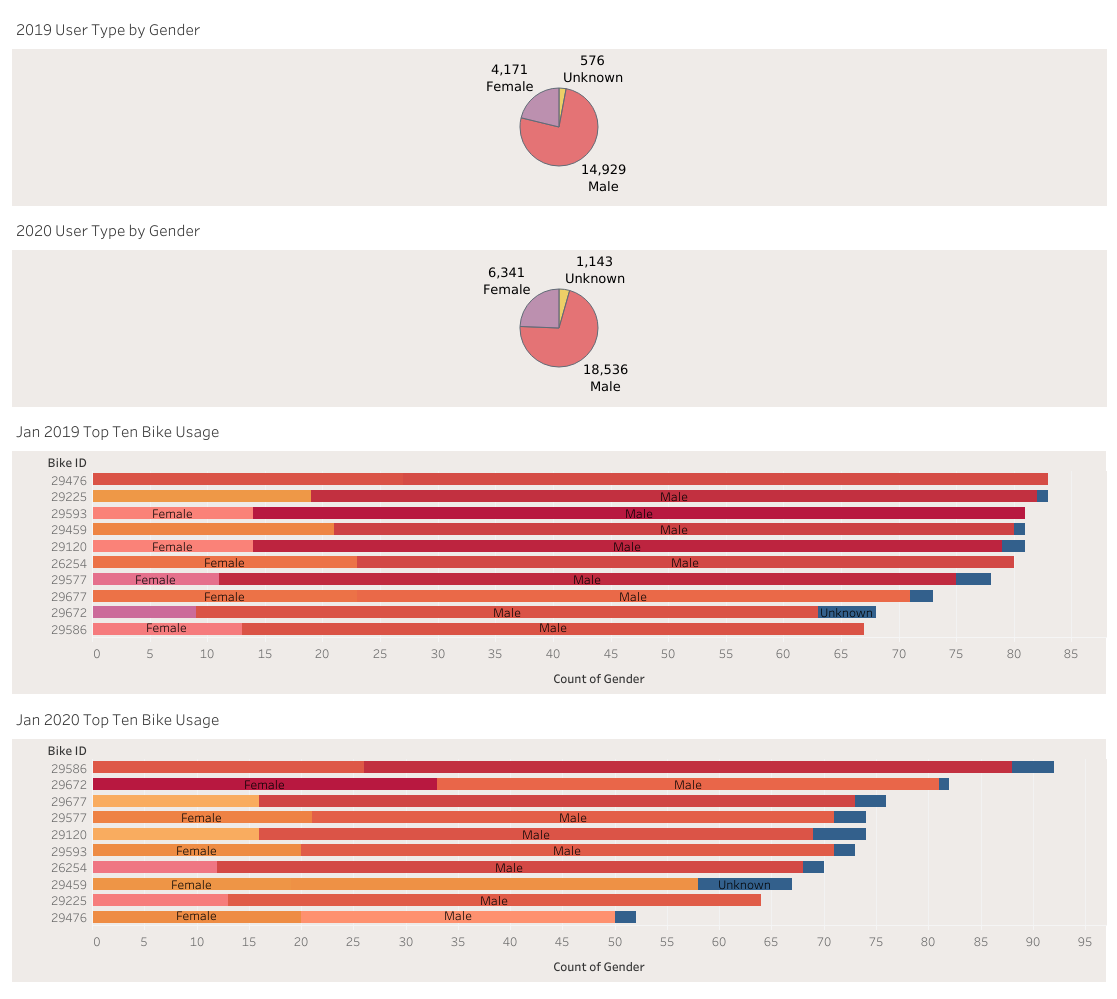

This screenshot's page, from the dashboard's own definition file:
{"tool":"tableau","page":{"name":"Gender Analysis","canvas":[650,860],"ordinal":1},"visuals":[{"type":"worksheet","box":[0,0,650,860]},{"type":"worksheet","param":"horz","box":[8,12.1,634,835.7]},{"type":"worksheet","param":"horz","box":[8,12.1,634,835.7]},{"type":"worksheet","param":"horz","box":[8,12.1,634,835.7]},{"type":"worksheet","box":[8,12.1,634,835.7]},{"type":"worksheet","param":"horz","box":[8,12.1,634,520.2]},{"type":"worksheet","param":"horz","box":[8,12.1,634,520.2]},{"type":"worksheet","param":"horz","box":[8,12.1,634,520.2]},{"type":"worksheet","box":[8,12.1,634,520.2]},{"type":"worksheet","title":"2019 Users - Gender ","mark":"Pie","box":[8,12.1,317,200.9]},{"type":"worksheet","title":"2020 Users - Gender","mark":"Pie","box":[325,12.1,317,200.9]},{"type":"worksheet","title":"Top Ten Bike Gender 2019","mark":"Automatic","rows":["Bike ID"],"cols":["Gender"],"box":[8,213,634,319.3]},{"type":"worksheet","title":"Top Ten Bike Gender 2020","mark":"Automatic","rows":["Bike ID"],"cols":["Gender"],"box":[8,532.4,634,315.5]}]}

Visuals, with their boxes on the page's 650x860 design canvas (x1, y1, x2, y2). These are canvas units, not pixel positions in the 1117x999 screenshot, which may show the page scaled, cropped or inside an application window:
worksheet: (x1=0, y1=0, x2=650, y2=860)
worksheet: (x1=8, y1=12, x2=642, y2=848)
worksheet: (x1=8, y1=12, x2=642, y2=848)
worksheet: (x1=8, y1=12, x2=642, y2=848)
worksheet: (x1=8, y1=12, x2=642, y2=848)
worksheet: (x1=8, y1=12, x2=642, y2=532)
worksheet: (x1=8, y1=12, x2=642, y2=532)
worksheet: (x1=8, y1=12, x2=642, y2=532)
worksheet: (x1=8, y1=12, x2=642, y2=532)
"2019 Users - Gender " worksheet (Pie marks): (x1=8, y1=12, x2=325, y2=213)
"2020 Users - Gender" worksheet (Pie marks): (x1=325, y1=12, x2=642, y2=213)
"Top Ten Bike Gender 2019" worksheet: (x1=8, y1=213, x2=642, y2=532)
"Top Ten Bike Gender 2020" worksheet: (x1=8, y1=532, x2=642, y2=848)
